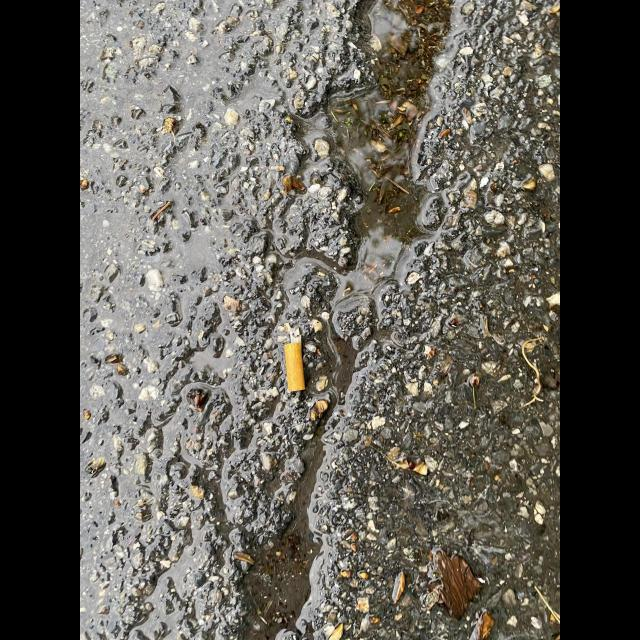cigarette: (284, 326, 306, 392)
